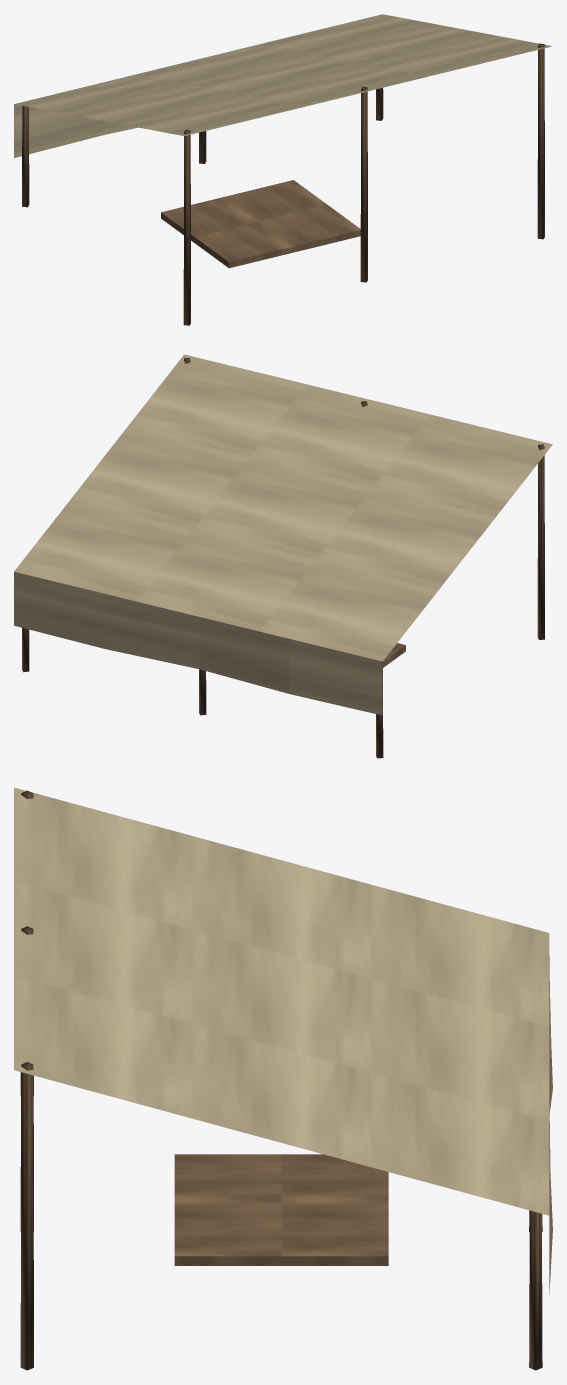
Rendered from Tent_Awning_1_LOD1.gltf.
3 views of the same model, one above another, from view 1: azimuth 30°, elevation 25°; view 2: azimuth 150°, elevation 25°; view 3: azimuth 270°, elevation 25° (orthographic). The views are drawn at different scales.
Visible parts, largest first — view 1: Tent_Awning_1_LOD1; view 2: Tent_Awning_1_LOD1; view 3: Tent_Awning_1_LOD1.
Boxes of the visible parts, x1,y1,x2,y2 form: Tent_Awning_1_LOD1: (14, 14, 552, 325); Tent_Awning_1_LOD1: (14, 354, 552, 758); Tent_Awning_1_LOD1: (14, 787, 552, 1370).
Bounding box in the file's own units: 5 × 2.5 × 4.03.
3 materials, 3 textured.
